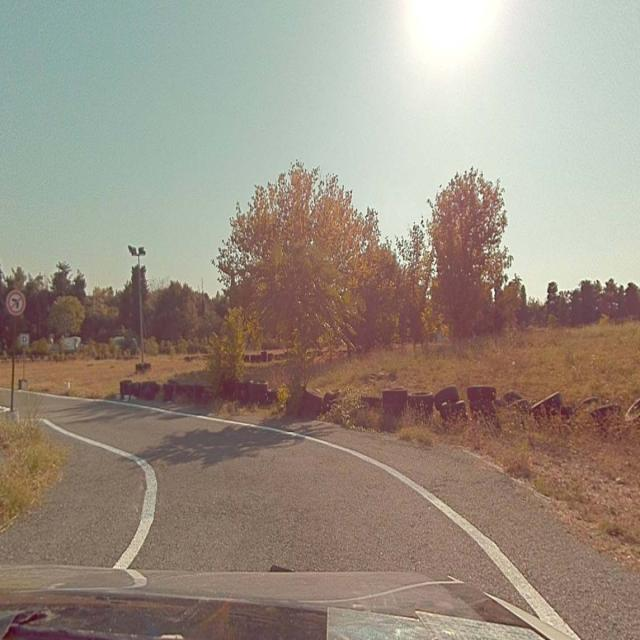soladonulmez: (8, 290, 24, 314)
